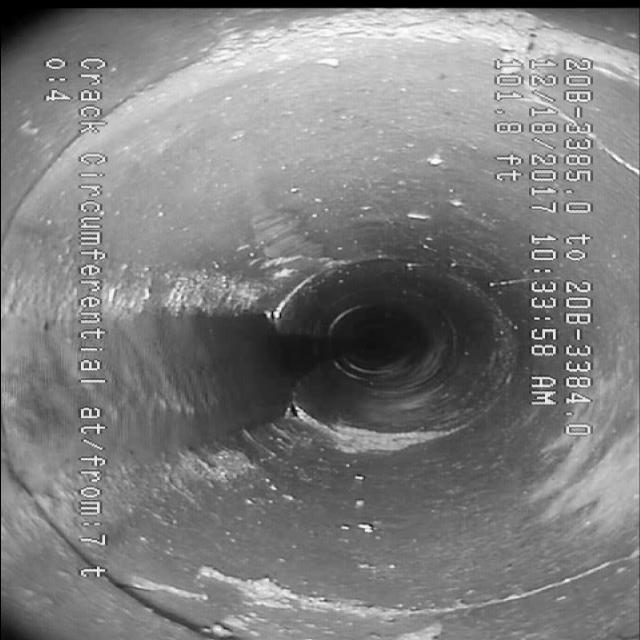Crack: (196, 499, 616, 634)
